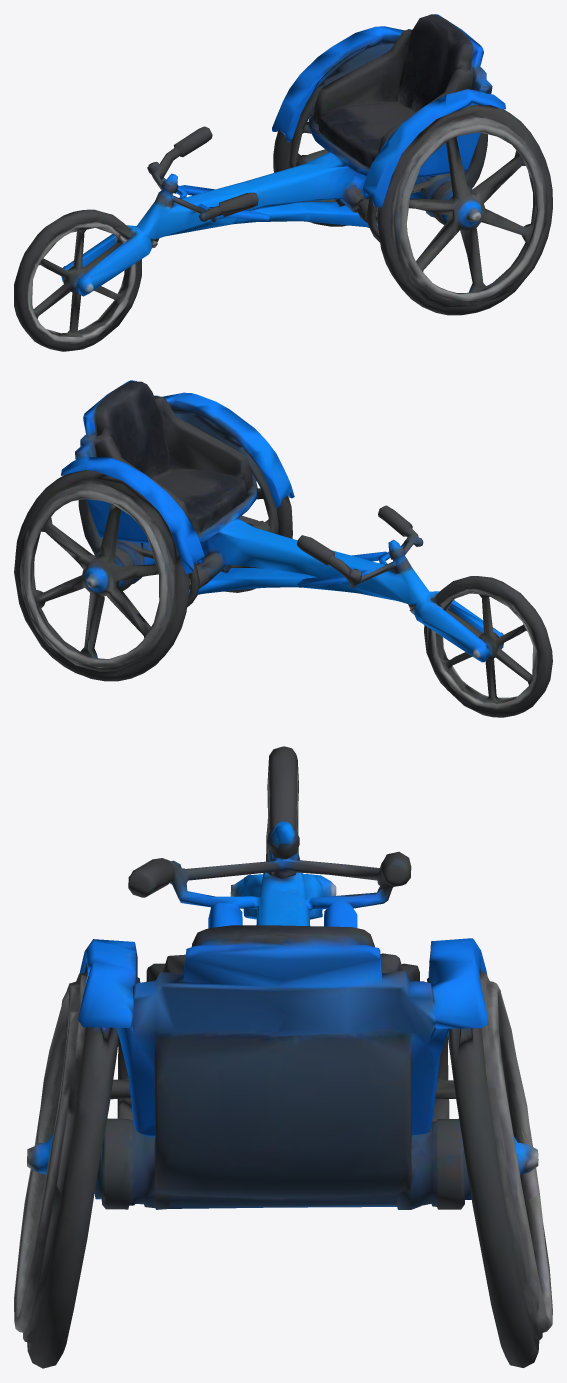
The model's file is racer.glb.
The picture shows the model from 3 angles, top to bottom: view 1: azimuth 30°, elevation 25°; view 2: azimuth 150°, elevation 25°; view 3: azimuth 270°, elevation 25°; orthographic projection. The views are drawn at different scales.
Visible parts, largest first — view 1: tripo_node_855fdcb8-328e-40a5-8237-309c12463f6c; view 2: tripo_node_855fdcb8-328e-40a5-8237-309c12463f6c; view 3: tripo_node_855fdcb8-328e-40a5-8237-309c12463f6c.
Boxes of the visible parts, x1,y1,x2,y2 form: tripo_node_855fdcb8-328e-40a5-8237-309c12463f6c: [14, 14, 552, 351]; tripo_node_855fdcb8-328e-40a5-8237-309c12463f6c: [14, 380, 552, 717]; tripo_node_855fdcb8-328e-40a5-8237-309c12463f6c: [14, 746, 552, 1368].
Bounding box in the file's own units: 1 × 0.4623 × 0.4909.
1 material, 1 textured.
